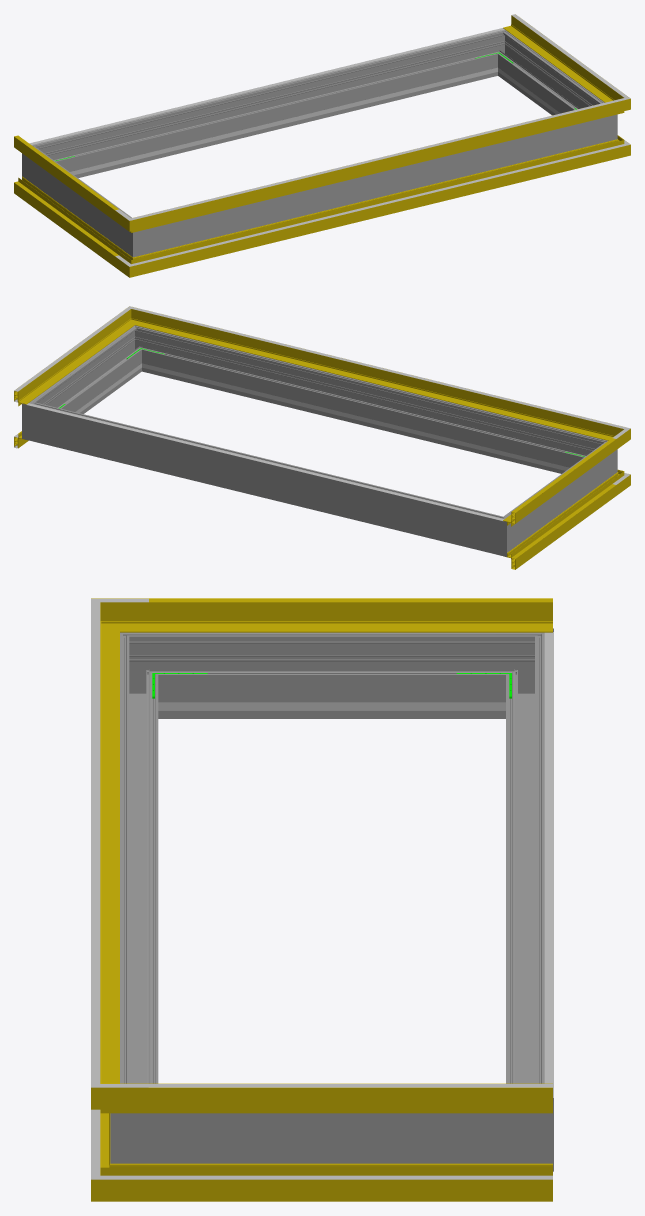
The picture shows the model from 3 angles, top to bottom: view 1: azimuth 30°, elevation 25°; view 2: azimuth 150°, elevation 25°; view 3: azimuth 270°, elevation 25°; orthographic projection. The views are drawn at different scales.
Visible parts, largest first — view 1: 3DGeom-276, 3DGeom-298, 3DGeom-90, 3DGeom-56, 3DGeom-297, 3DGeom-268, 3DGeom-85, 3DGeom-58, 3DGeom-244, 3DGeom-220, 3DGeom-66, 3DGeom-100 (+12 smaller); view 2: 3DGeom-298, 3DGeom-276, 3DGeom-56, 3DGeom-297, 3DGeom-85, 3DGeom-268, 3DGeom-58, 3DGeom-239, 3DGeom-220, 3DGeom-278, 3DGeom-66, 3DGeom-50 (+8 smaller); view 3: 3DGeom-268, 3DGeom-297, 3DGeom-298, 3DGeom-276, 3DGeom-97, 3DGeom-50, 3DGeom-58, 3DGeom-56, 3DGeom-220, 3DGeom-66, 3DGeom-284, 3DGeom-290 (+9 smaller).
Part boxes in pixels (bbox=[...]): 3DGeom-276: bbox=[49, 35, 493, 177]; 3DGeom-298: bbox=[158, 120, 592, 251]; 3DGeom-90: bbox=[150, 143, 605, 271]; 3DGeom-56: bbox=[152, 105, 605, 227]; 3DGeom-297: bbox=[500, 38, 598, 115]; 3DGeom-268: bbox=[36, 154, 126, 246]; 3DGeom-85: bbox=[14, 176, 123, 266]; 3DGeom-58: bbox=[503, 15, 612, 101]; 3DGeom-244: bbox=[79, 73, 473, 173]; 3DGeom-220: bbox=[29, 28, 504, 144]; 3DGeom-66: bbox=[152, 103, 605, 214]; 3DGeom-100: bbox=[152, 149, 605, 260]; 3DGeom-298: bbox=[146, 330, 590, 473]; 3DGeom-276: bbox=[47, 406, 485, 550]; 3DGeom-56: bbox=[147, 314, 603, 438]; 3DGeom-297: bbox=[40, 334, 139, 413]; 3DGeom-85: bbox=[505, 479, 616, 569]; 3DGeom-268: bbox=[513, 449, 603, 542]; 3DGeom-58: bbox=[14, 318, 127, 406]; 3DGeom-239: bbox=[166, 369, 560, 469]; 3DGeom-220: bbox=[26, 403, 503, 520]; 3DGeom-278: bbox=[481, 509, 521, 556]; 3DGeom-66: bbox=[153, 312, 605, 423]; 3DGeom-50: bbox=[503, 439, 616, 526]; 3DGeom-268: bbox=[168, 632, 496, 718]; 3DGeom-297: bbox=[168, 1113, 496, 1163]; 3DGeom-298: bbox=[120, 653, 158, 1083]; 3DGeom-276: bbox=[506, 653, 544, 1083]; 3DGeom-97: bbox=[148, 1163, 552, 1201]; 3DGeom-50: bbox=[148, 598, 552, 632]; 3DGeom-58: bbox=[148, 1083, 552, 1113]; 3DGeom-56: bbox=[100, 623, 119, 1083]; 3DGeom-220: bbox=[544, 632, 553, 1097]; 3DGeom-66: bbox=[91, 623, 100, 1063]; 3DGeom-284: bbox=[496, 1077, 553, 1171]; 3DGeom-290: bbox=[110, 1077, 167, 1163].
Size of the model in its own units: 3.05 by 0.3303 by 1.22.
